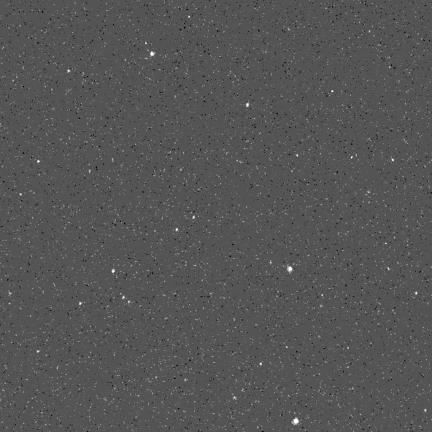blob: (292, 418, 299, 425), (288, 266, 292, 272), (37, 160, 41, 164), (151, 52, 155, 56), (112, 269, 115, 273), (246, 103, 249, 107), (416, 292, 418, 296), (176, 228, 178, 231), (332, 91, 334, 93)
